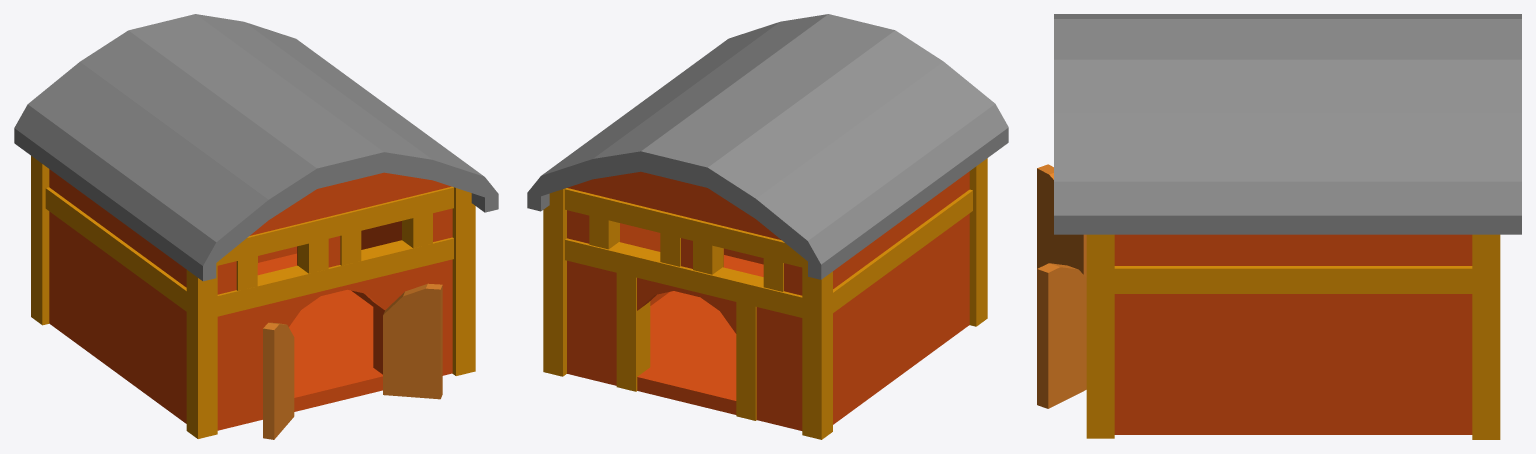
Rendered from uploads_files_2568031_barn2.fbx.
3 renders of one model, left to right at view 1: azimuth 30°, elevation 25°; view 2: azimuth 150°, elevation 25°; view 3: azimuth 270°, elevation 25°, orthographic. The views are drawn at different scales.
Visible parts, largest first — view 1: Building, Pillars, Left Dor, Right Dor; view 2: Building, Pillars; view 3: Building, Pillars, Left Dor, Right Dor.
Part boxes in pixels (<box>): Building: <box>14,14,498,430</box>; Pillars: <box>31,156,475,438</box>; Left Dor: <box>383,283,442,399</box>; Right Dor: <box>263,322,294,439</box>; Building: <box>527,14,1008,430</box>; Pillars: <box>543,158,987,439</box>; Building: <box>1054,14,1521,434</box>; Pillars: <box>1086,234,1500,439</box>; Left Dor: <box>1037,263,1086,408</box>; Right Dor: <box>1037,164,1086,277</box>.
Size of the model in its own units: 271 by 223 by 311.
